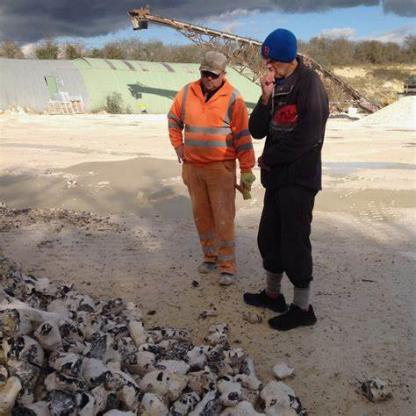person: (261, 28, 352, 334), (164, 44, 270, 287)
